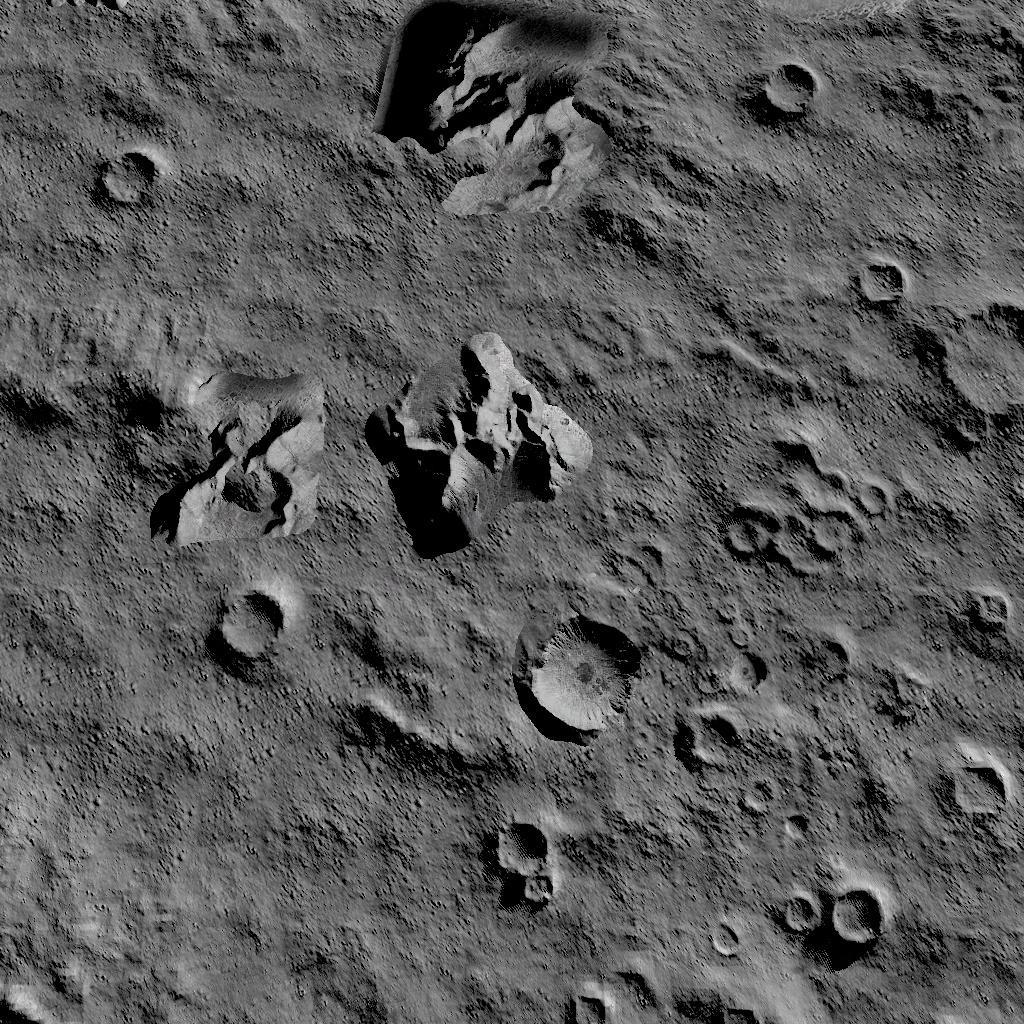Boulders: (371, 0, 723, 260), (0, 298, 328, 542), (368, 335, 590, 558)
Crater: (523, 610, 638, 738), (938, 295, 1024, 453), (771, 885, 893, 955), (208, 585, 296, 673), (483, 818, 558, 910), (90, 148, 166, 208), (754, 58, 822, 118), (848, 255, 910, 313)
Plan surface: (6, 552, 196, 976), (211, 780, 473, 1024), (180, 65, 360, 285), (738, 138, 1024, 242)
